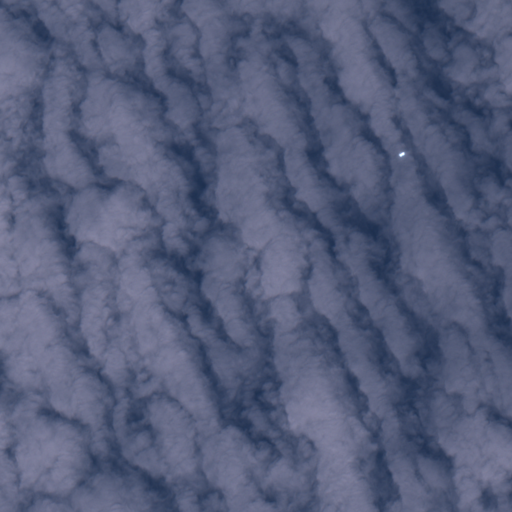Iceberg: (399, 152, 404, 156)
